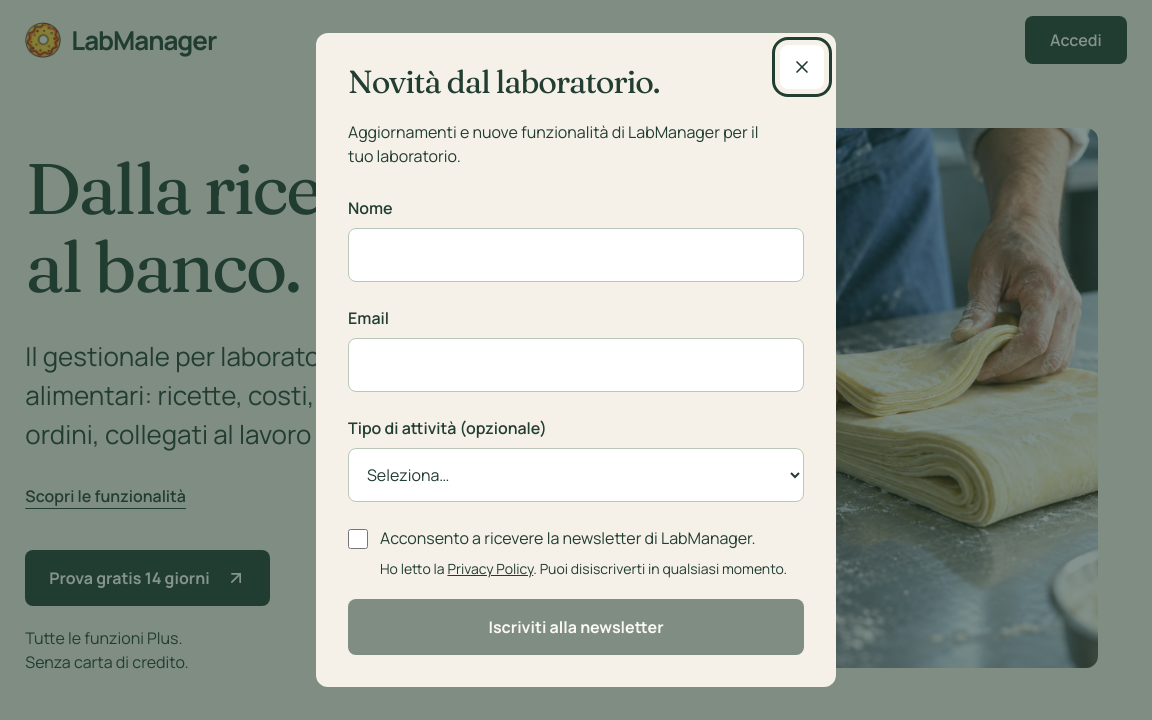
Test case: newsletter popup › is connected to the homepage, opens at halfway and dismisses for seven days
(page scrolled)
Expected: the dialog "Novità dal laboratorio." is shown, [316,33,836,687]
Click the button named "Chiudi newsletter": (802, 67) [780,45,824,89]
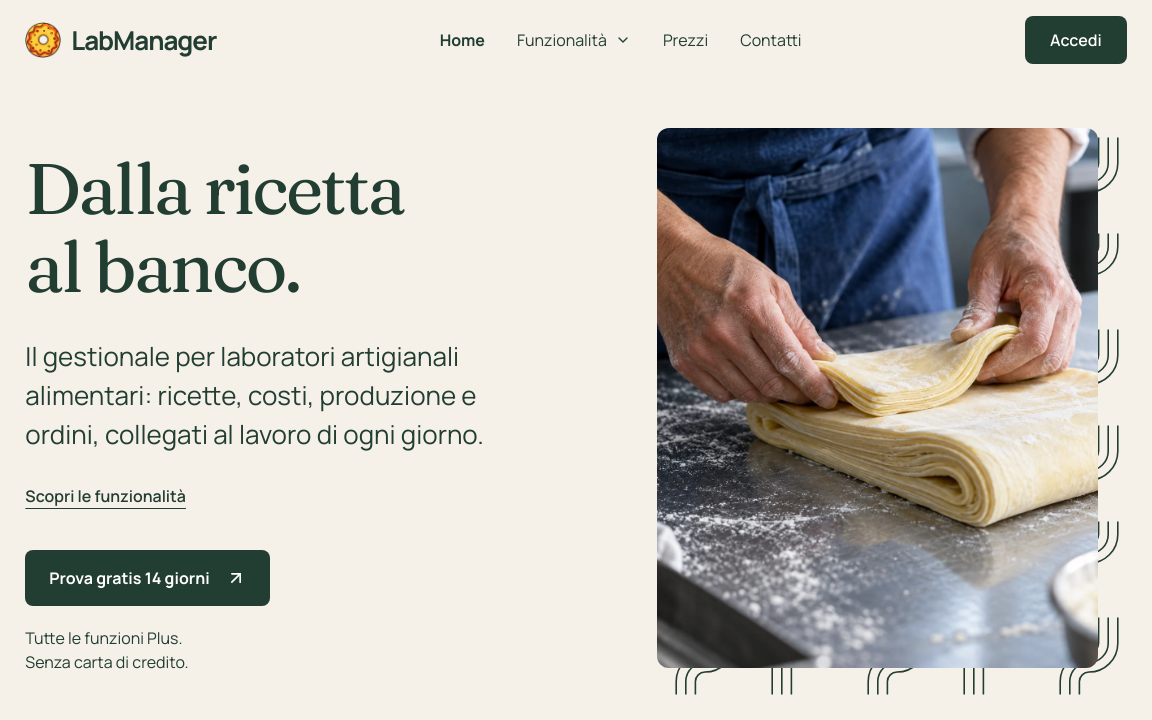
Expected: the dialog is gone
